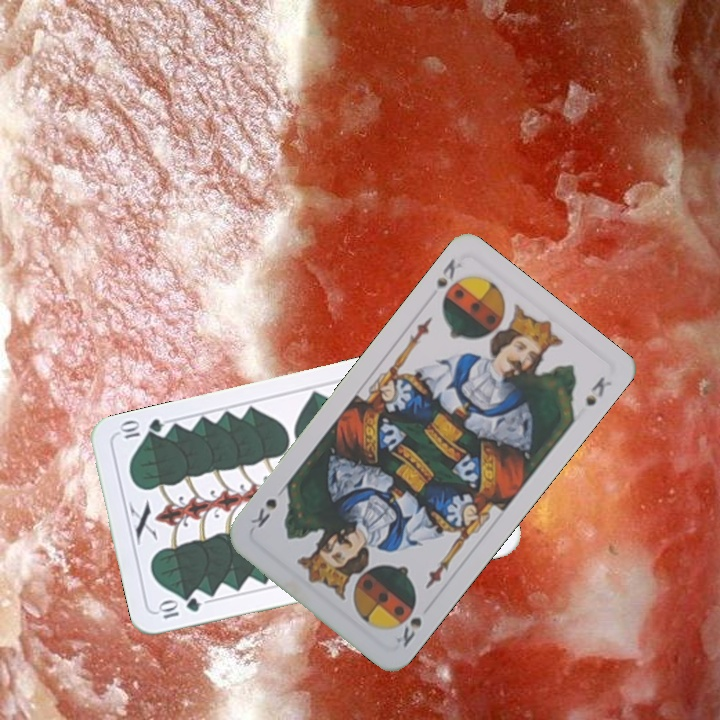G10: (154, 594, 204, 622)
SK: (432, 254, 466, 308), (391, 599, 425, 650)
